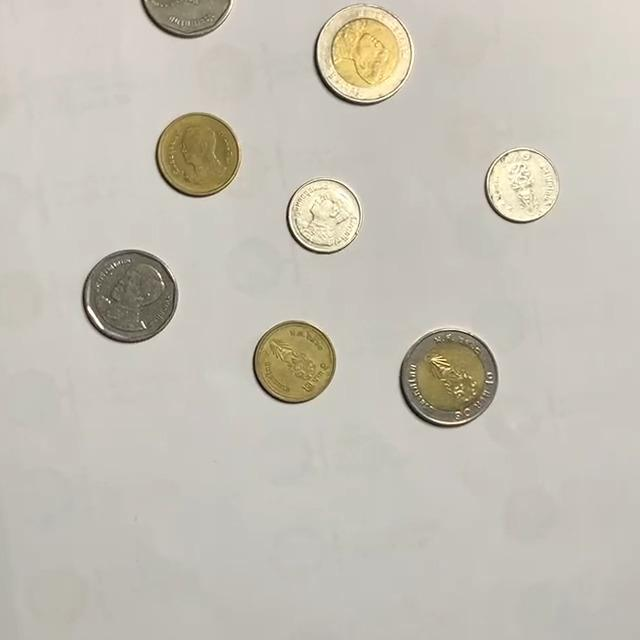1-baht: (484, 148, 562, 224), (287, 178, 363, 254)
10-baht: (315, 4, 415, 104), (400, 329, 501, 426)
2-baht: (156, 111, 242, 197), (253, 320, 338, 403)
5-baht: (82, 248, 178, 343), (138, 0, 235, 38)
